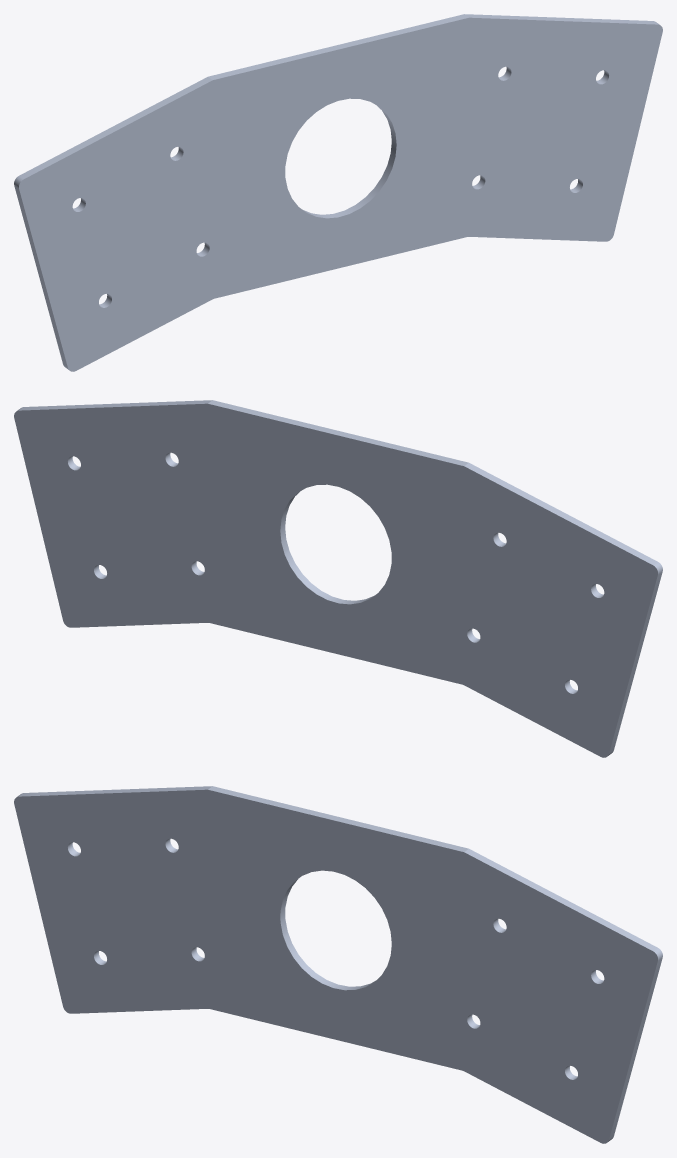
File: Bogie_Connection_Plate_1_0_1.dae
3 renders of one model, top to bottom at view 1: azimuth 30°, elevation 25°; view 2: azimuth 150°, elevation 25°; view 3: azimuth 330°, elevation 25°, orthographic.
Parts seen in each view (by area): view 1: node0; view 2: node0; view 3: node0.
Part boxes in pixels (x1=…): node0: x1=14, y1=14, x2=662, y2=371; node0: x1=14, y1=400, x2=662, y2=757; node0: x1=14, y1=786, x2=662, y2=1143.
Size of the model in its own units: 0.2427 by 0.0928 by 0.00317.
